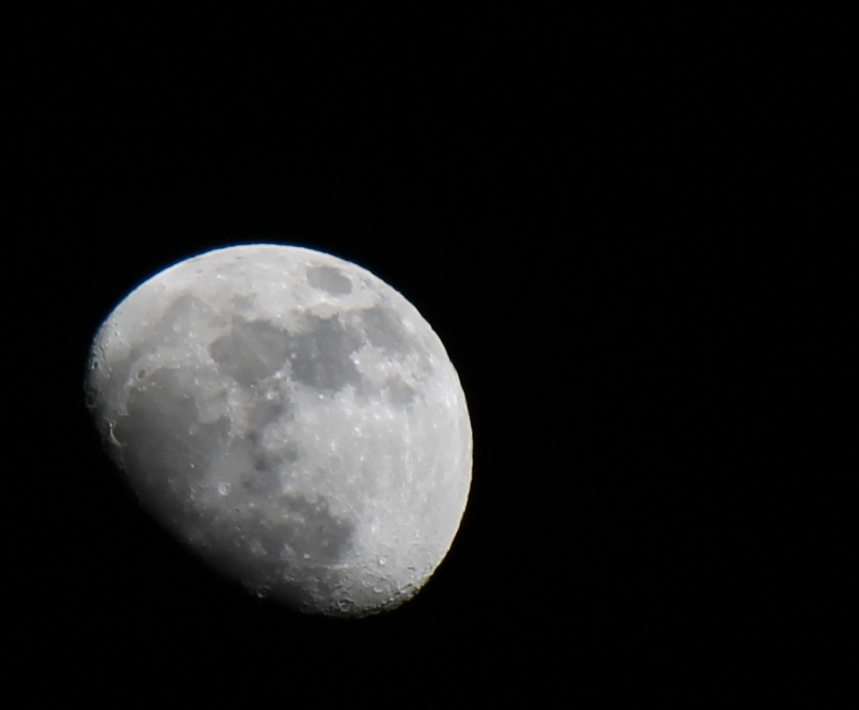crater: (285, 260, 359, 302), (208, 473, 244, 508), (125, 362, 162, 391), (371, 551, 400, 574), (252, 582, 276, 600), (261, 390, 278, 409), (352, 449, 371, 465), (313, 388, 329, 403)
